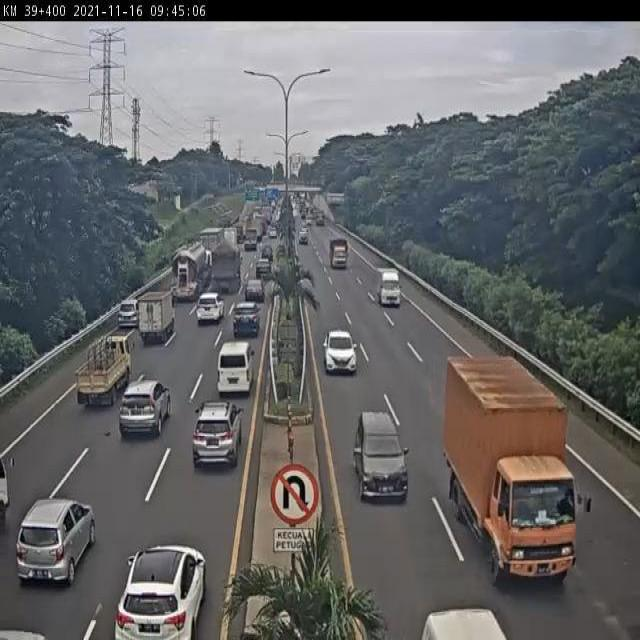car: (114, 548, 208, 640), (16, 497, 99, 584), (352, 408, 409, 500), (192, 403, 242, 469), (118, 380, 172, 437), (215, 343, 253, 396), (323, 327, 357, 373), (232, 305, 259, 343), (194, 295, 222, 324), (118, 296, 142, 327), (244, 278, 266, 302)
small truck: (76, 336, 130, 403), (139, 292, 174, 344), (376, 269, 401, 311)
truck-l-: (208, 241, 241, 295)
truck-m-: (443, 358, 577, 586)
truck-xl-: (168, 242, 211, 302)
